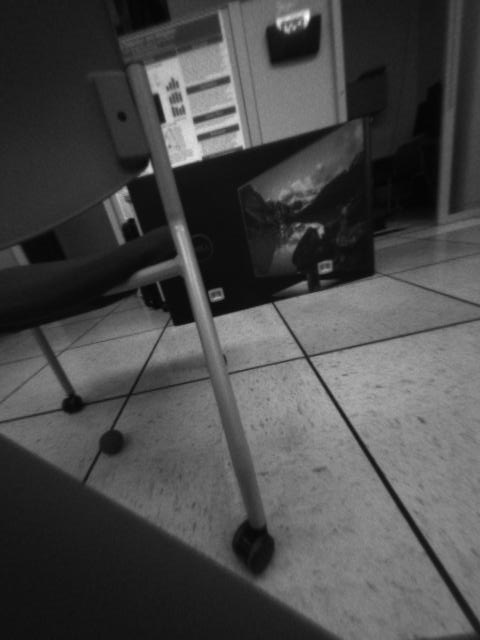dogtoy: (92, 422, 130, 464)
